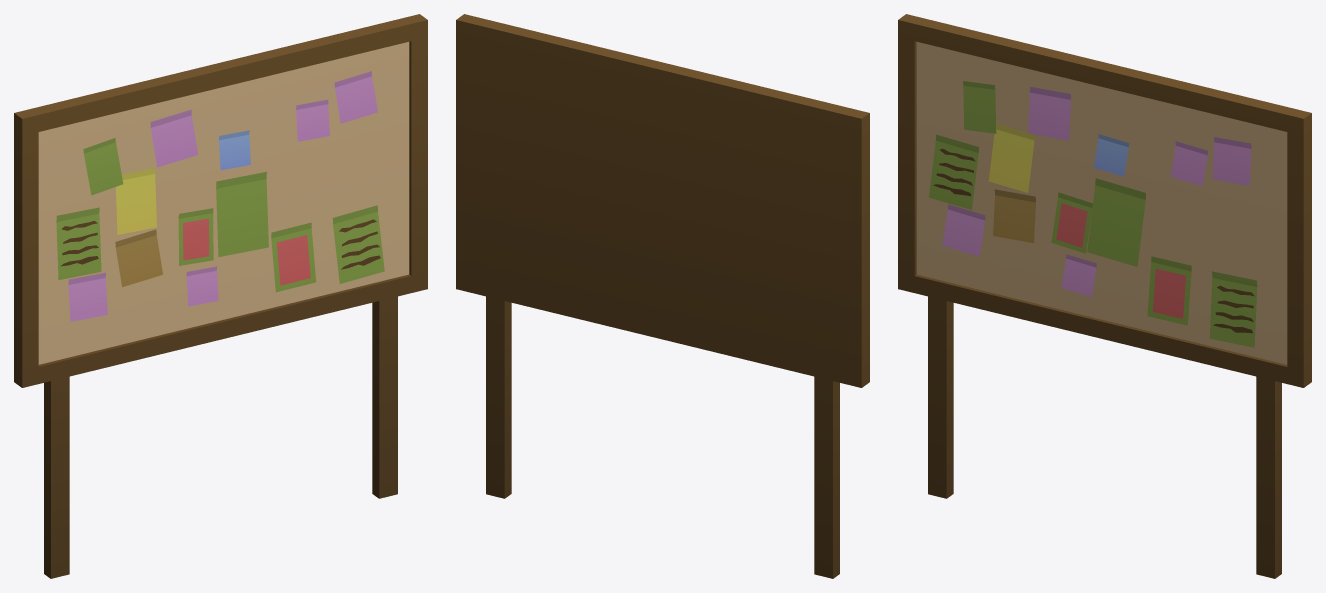
Rendered from CorkBoard.fbx.
3 views of the same model, side by side, from view 1: azimuth 30°, elevation 25°; view 2: azimuth 150°, elevation 25°; view 3: azimuth 330°, elevation 25° (orthographic).
Parts seen in each view (by area): view 1: CorkBoard; view 2: CorkBoard; view 3: CorkBoard.
Part boxes in pixels (x1,y1,x2,y2): CorkBoard: [14, 14, 427, 578]; CorkBoard: [456, 14, 869, 578]; CorkBoard: [898, 14, 1311, 578].
Bounding box in the file's own units: 184 × 203 × 9.22.
